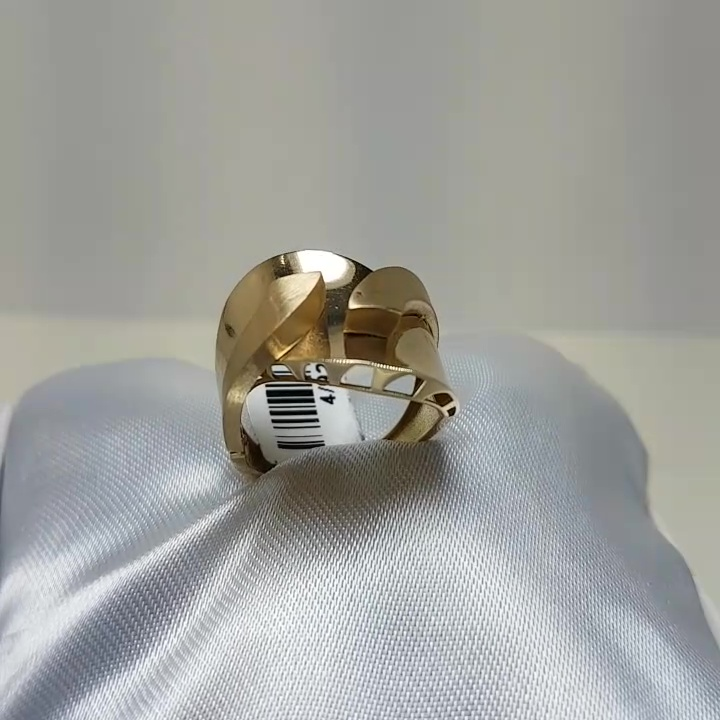Ring 4: (208, 208, 465, 492)
